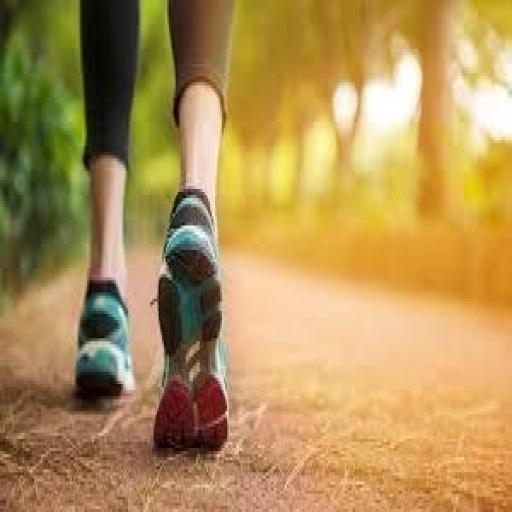running: (72, 0, 240, 457)
